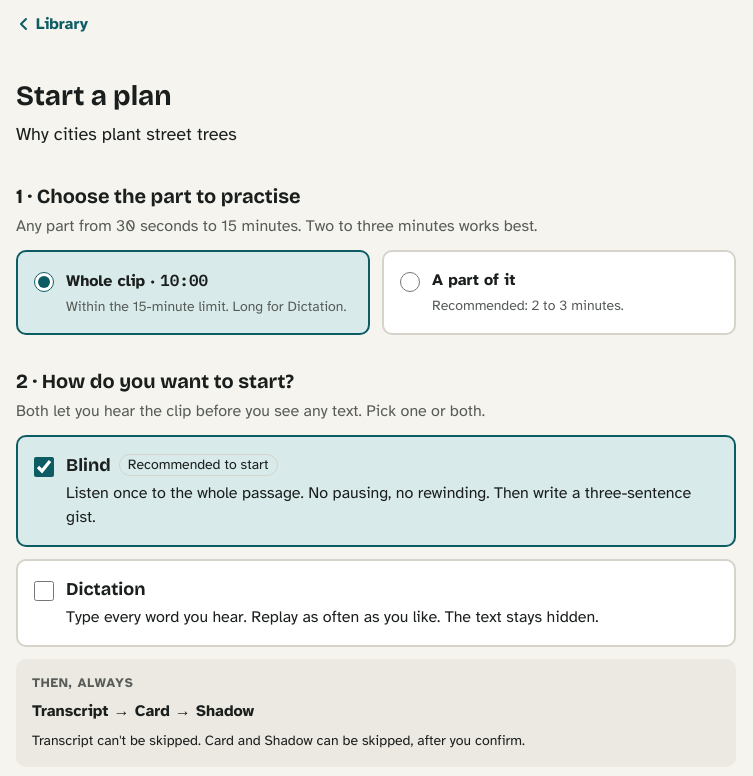
Test: when playback fails, the learner is told
The image size is (753, 776).
Click the radio button labelled "A part of it Recommended: 2 to 3 minutes.": (410, 282) x1=400 y1=272 x2=420 y2=292
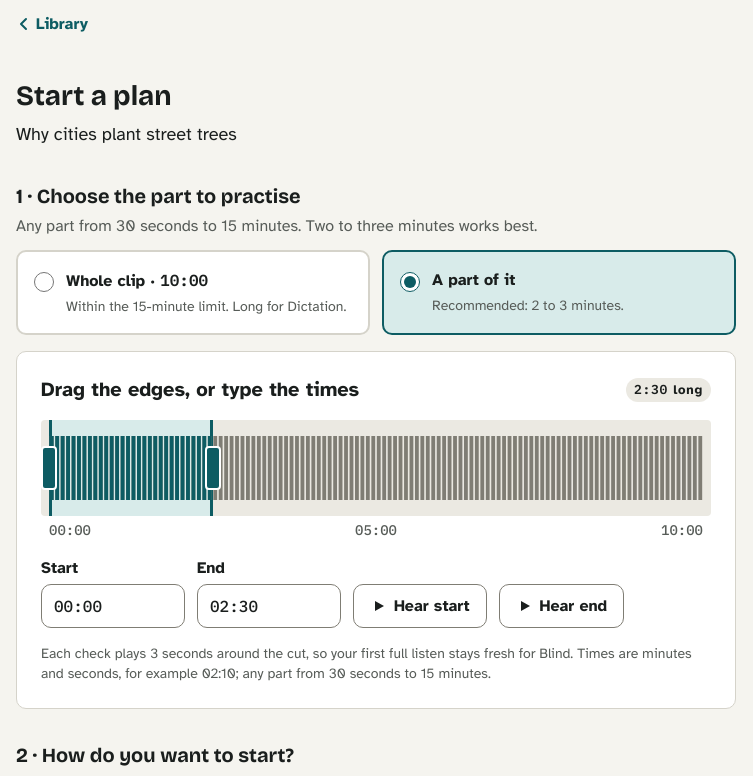
Click the button "Hear end": (561, 606) x1=499 y1=584 x2=624 y2=628
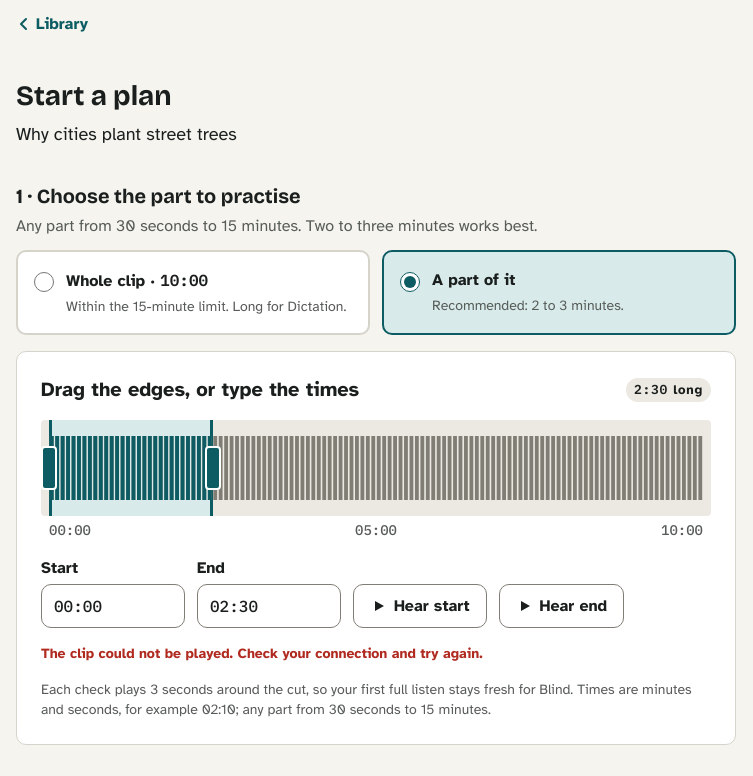
Now the message shows "The clip could not be played.", box x1=41 y1=645 x2=483 y2=662
